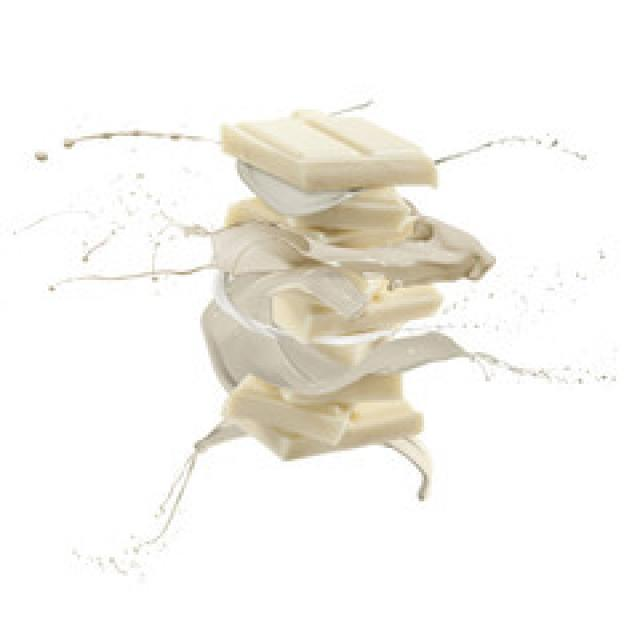Chocolate: (204, 110, 497, 456)
